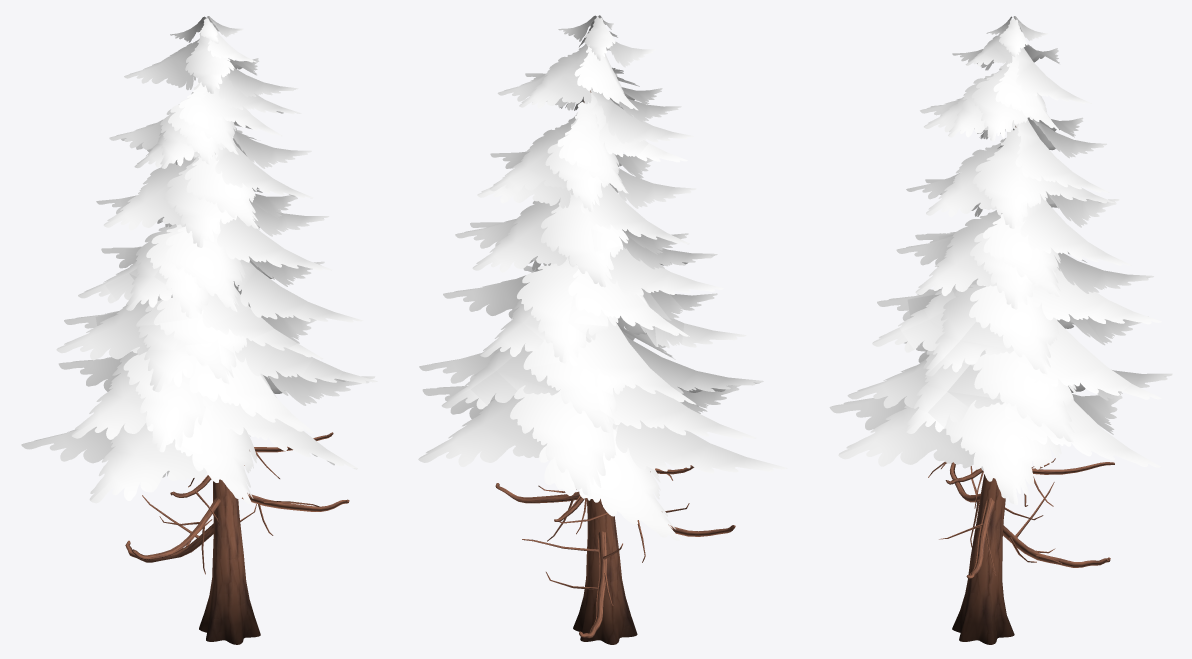
The model's file is Pine_4.glb.
The picture shows the model from 3 angles, left to right: view 1: azimuth 30°, elevation 25°; view 2: azimuth 150°, elevation 25°; view 3: azimuth 270°, elevation 25°; orthographic projection. The views are drawn at different scales.
Parts seen in each view (by area): view 1: Pine_4; view 2: Pine_4; view 3: Pine_4.
Part boxes in pixels (x1,y1,x2,y2): Pine_4: [21, 16, 377, 644]; Pine_4: [418, 15, 787, 644]; Pine_4: [829, 16, 1172, 644].
Size of what is drawn, in the model's own units: 5.8 by 10.24 by 5.37.
Materials: 2 (2 with a texture image).
